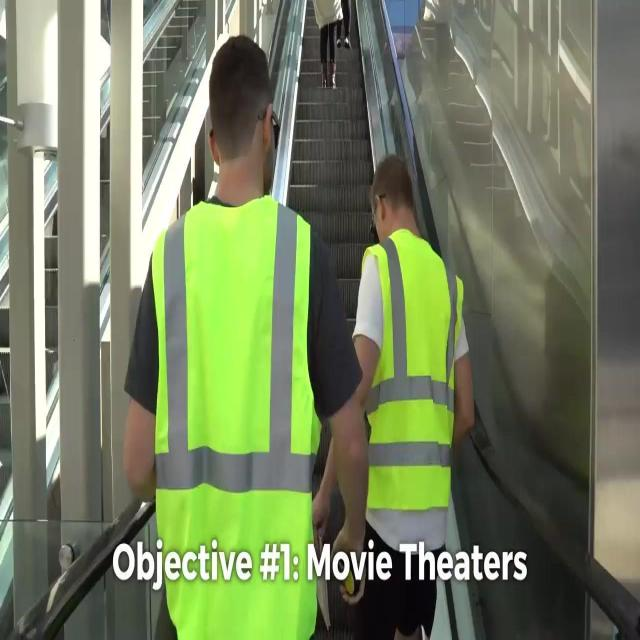Vest: (150, 192, 318, 639), (359, 227, 463, 511)
